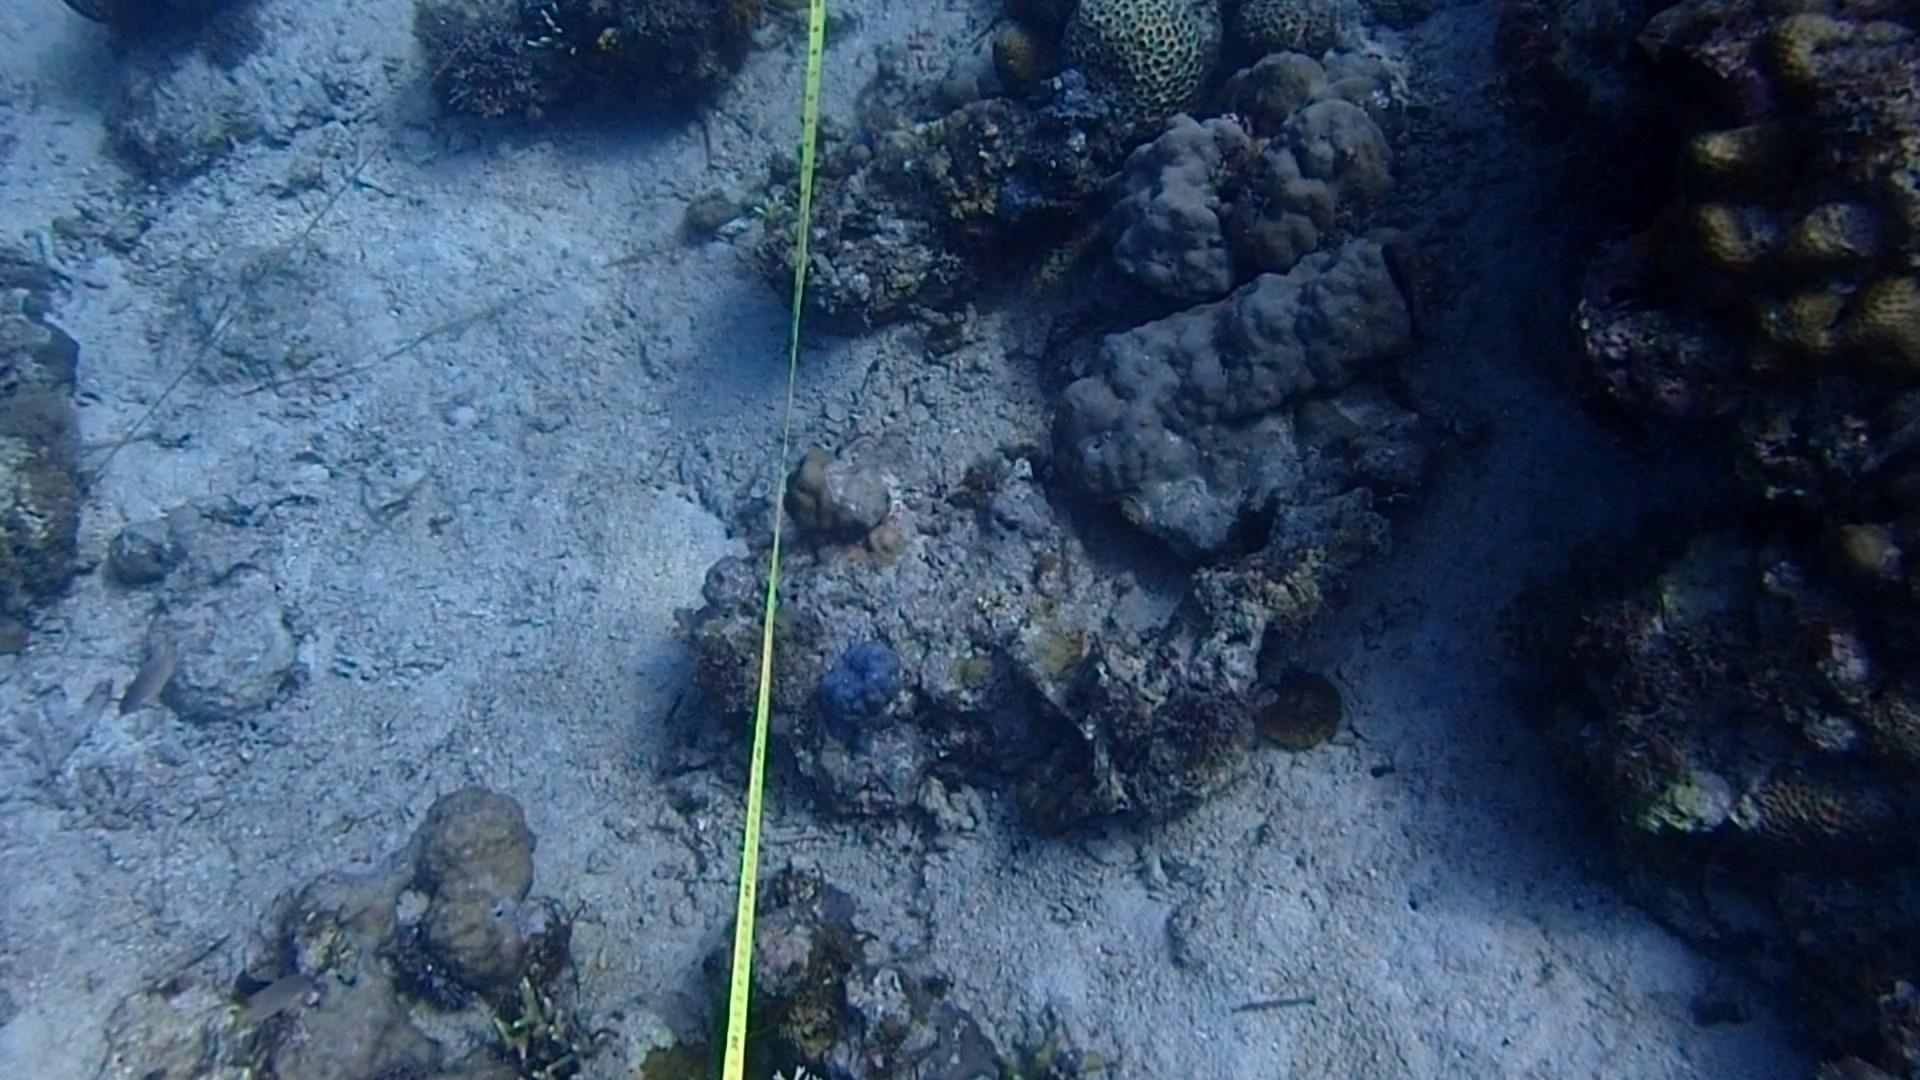Dark Fish: (1618, 45, 1755, 135), (1596, 248, 1742, 322), (1349, 237, 1437, 328), (1629, 818, 1730, 897)
Light Fish: (112, 618, 185, 728)
